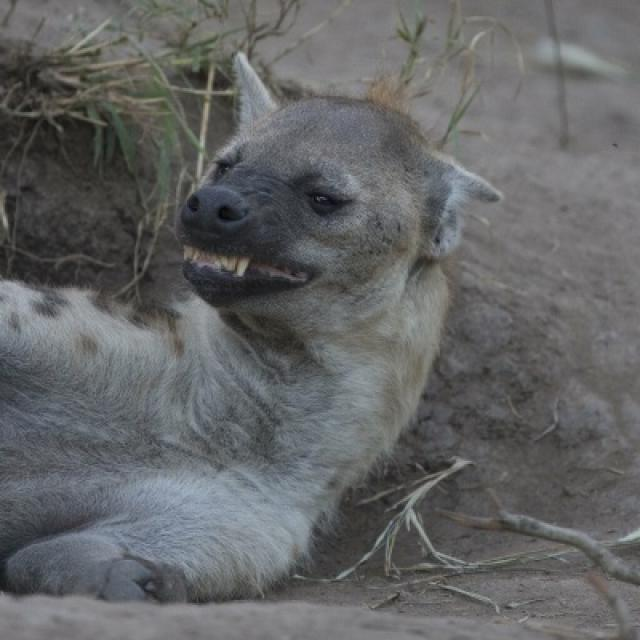hyena: (0, 99, 502, 606)
